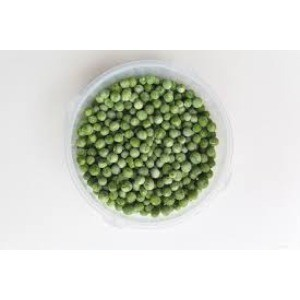green pea_brain food: (88, 110, 204, 197)
